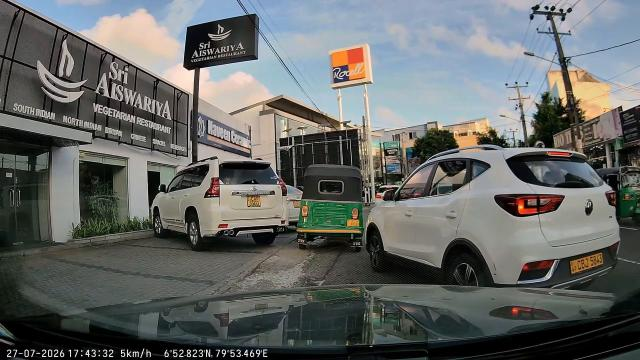number plate: (566, 252, 617, 279)
